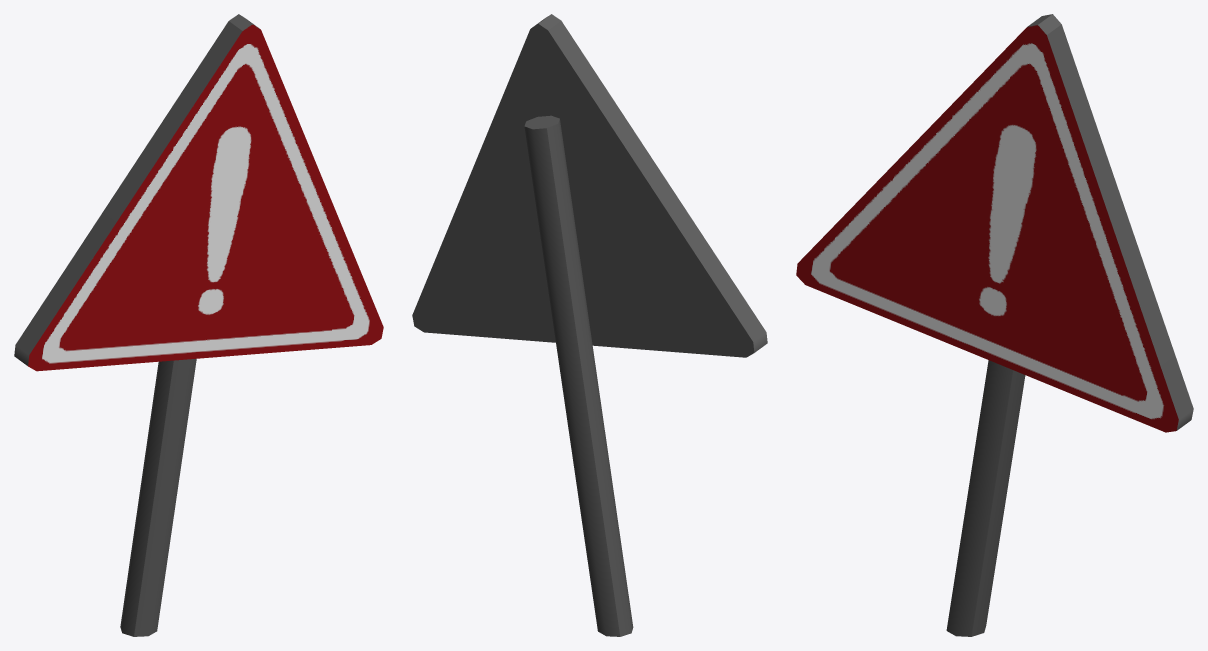
File: hazard_sign.fbx
3 renders of one model, left to right at view 1: azimuth 30°, elevation 25°; view 2: azimuth 150°, elevation 25°; view 3: azimuth 330°, elevation 25°, orthographic. The views are drawn at different scales.
Parts seen in each view (by area): view 1: sign; view 2: sign; view 3: sign.
Part boxes in pixels (bbox=[...]): sign: bbox=[14, 14, 383, 636]; sign: bbox=[412, 14, 767, 636]; sign: bbox=[796, 14, 1193, 636].
Bounding box in the file's own units: 8.01 × 12.92 × 1.3.
